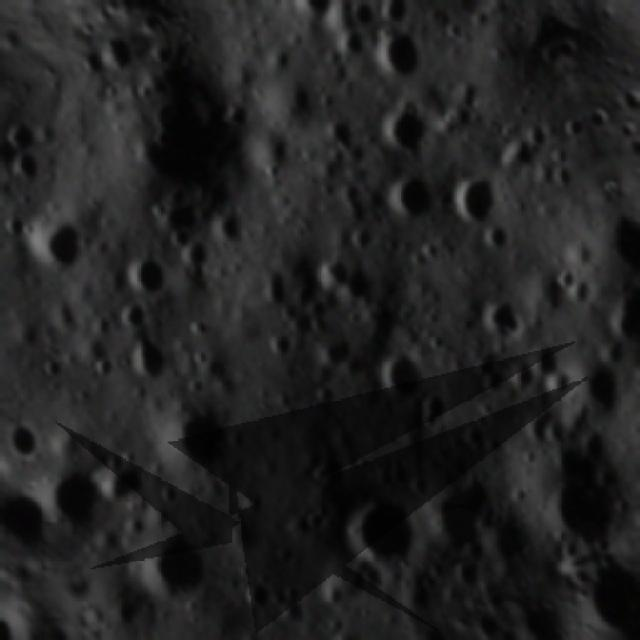crater: (520, 436, 638, 562), (329, 481, 437, 592), (129, 520, 228, 620), (413, 464, 513, 562), (154, 389, 251, 489), (36, 449, 124, 545), (12, 205, 98, 292), (561, 347, 640, 430), (364, 340, 442, 414), (361, 23, 437, 94), (86, 448, 159, 520), (468, 284, 538, 358), (372, 101, 443, 170), (377, 164, 445, 231), (117, 328, 183, 395), (443, 171, 508, 237), (115, 245, 178, 308), (492, 125, 554, 188), (166, 225, 223, 280), (206, 197, 260, 254), (278, 0, 353, 40), (0, 106, 52, 162), (0, 144, 52, 195), (235, 571, 283, 618), (481, 216, 527, 262), (112, 294, 157, 340), (261, 327, 301, 370), (379, 0, 423, 34), (298, 505, 337, 540), (342, 0, 381, 34), (0, 182, 15, 249)
